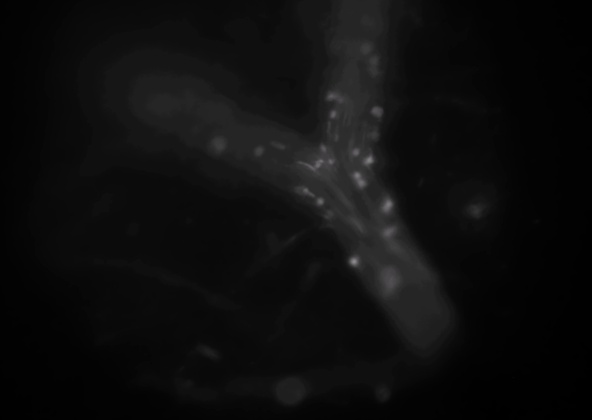cell: (369, 105, 383, 119), (349, 145, 363, 159), (362, 153, 376, 167), (316, 142, 330, 156), (311, 158, 325, 172), (324, 154, 338, 168), (324, 89, 338, 103), (350, 169, 364, 183), (333, 90, 347, 104), (355, 178, 369, 192), (346, 254, 360, 268), (382, 272, 396, 286), (380, 225, 394, 239), (382, 196, 396, 210), (384, 224, 398, 238), (379, 201, 393, 215), (312, 195, 326, 209), (298, 185, 312, 199), (252, 143, 266, 157), (212, 139, 226, 153), (360, 41, 374, 55), (368, 54, 382, 68), (334, 40, 348, 54), (367, 128, 381, 142), (325, 107, 339, 121)
